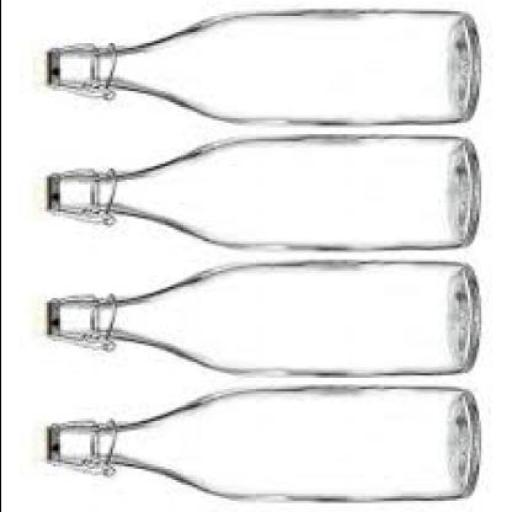glass: (55, 389, 473, 506), (57, 139, 476, 255), (57, 266, 473, 380), (55, 14, 478, 125)
